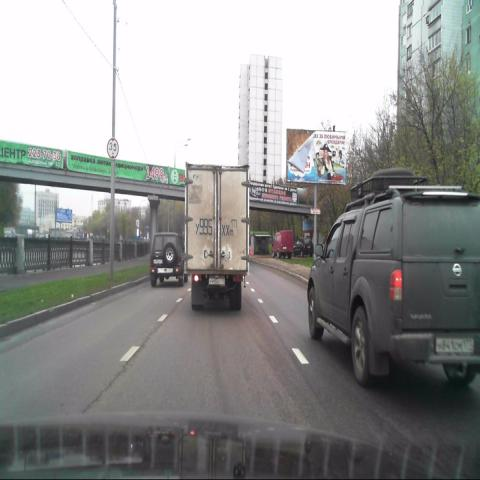3_13: (107, 138, 119, 159)
